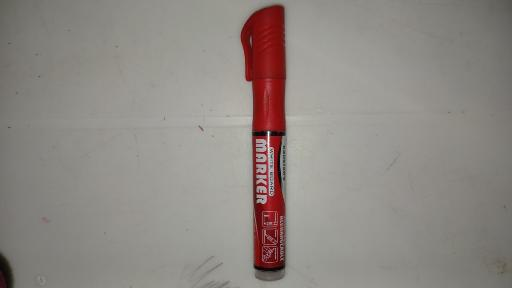Whiteboard marker: (243, 5, 286, 282)
